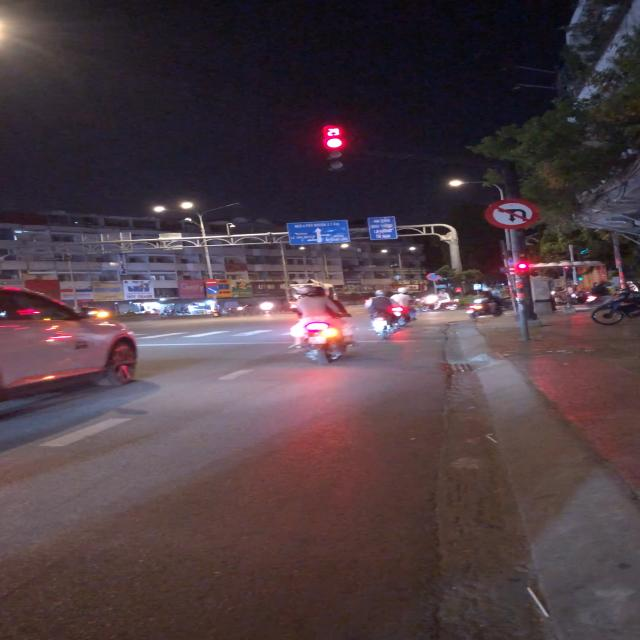Bien bao cam di nguoc chieu: (204, 278, 220, 286)
Bien bao cam re trai va quay dau: (483, 197, 539, 231)
Bien bao huong phai di vong chuong ngai vat: (205, 286, 219, 294)
